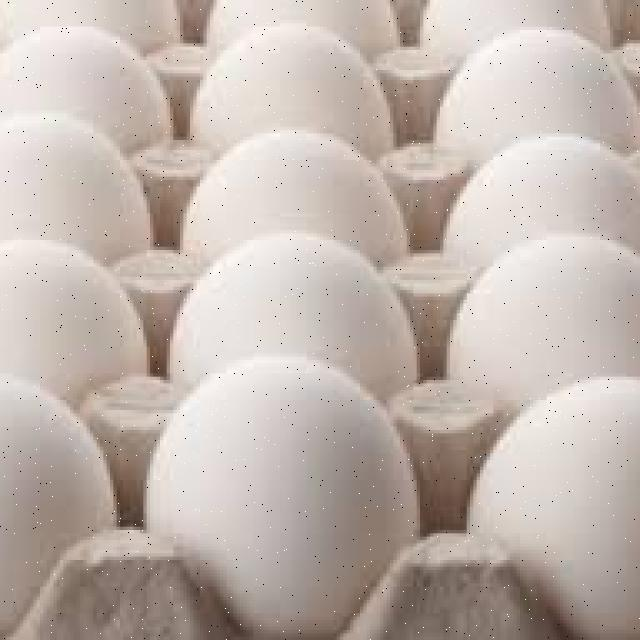White Egg: (130, 350, 430, 640), (467, 376, 640, 640), (156, 226, 430, 392), (0, 366, 124, 640), (168, 124, 418, 258), (443, 233, 640, 397), (178, 12, 400, 137), (430, 130, 640, 260), (423, 20, 640, 143), (0, 103, 167, 257), (0, 234, 157, 394), (0, 20, 170, 130)
